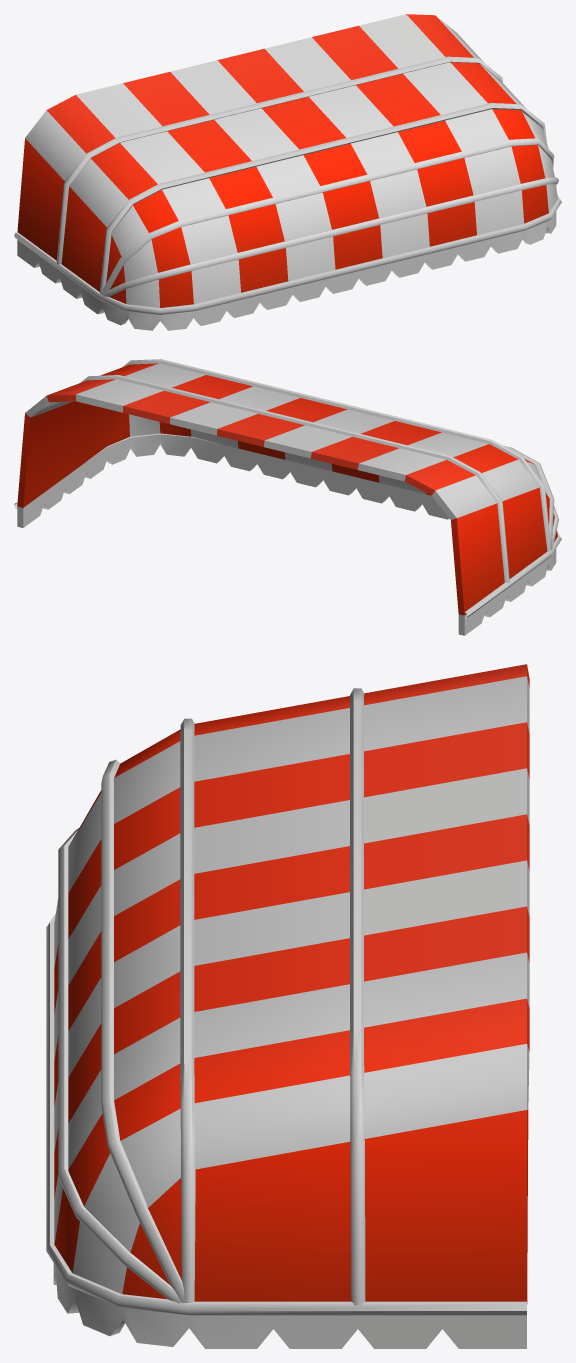
File: Anwing_01.fbx
3 renders of one model, top to bottom at view 1: azimuth 30°, elevation 25°; view 2: azimuth 150°, elevation 25°; view 3: azimuth 270°, elevation 25°, orthographic. The views are drawn at different scales.
Parts seen in each view (by area): view 1: Anwing_01; view 2: Anwing_01; view 3: Anwing_01.
Boxes of the visible parts, bbox=[...] form: Anwing_01: bbox=[14, 14, 561, 330]; Anwing_01: bbox=[14, 359, 561, 635]; Anwing_01: bbox=[46, 664, 529, 1348].
Bounding box in the file's own units: 325 × 101 × 150.
